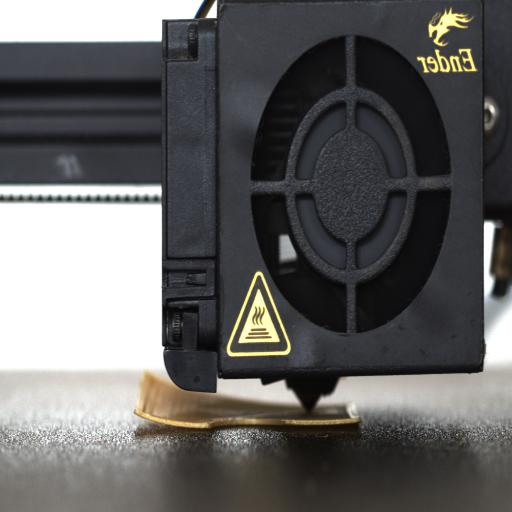warp: (126, 403, 208, 439), (308, 413, 366, 436)
